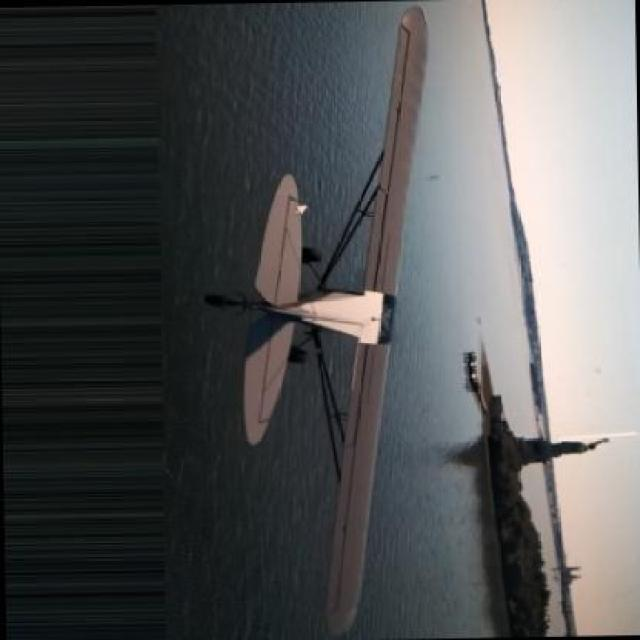iha: (212, 2, 439, 636)
